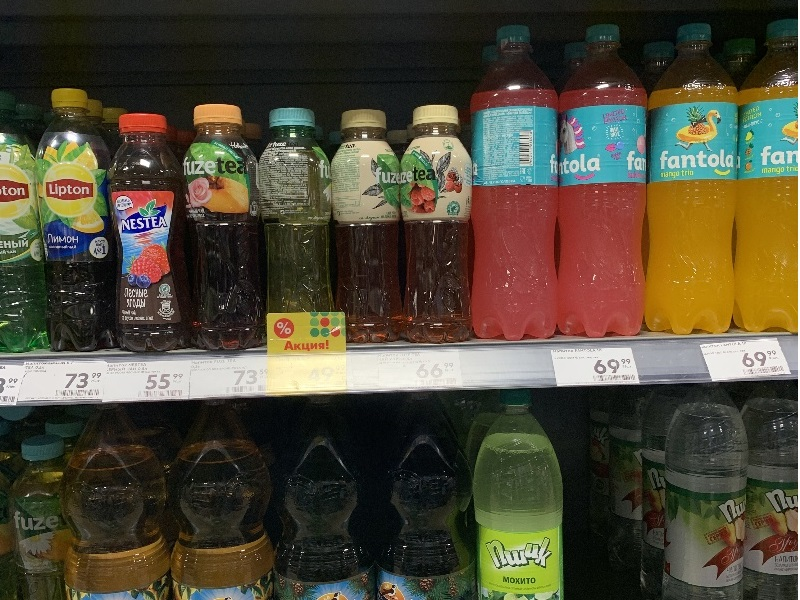lemonade: (464, 25, 569, 350), (643, 22, 749, 338), (557, 21, 653, 340), (25, 87, 127, 360)
